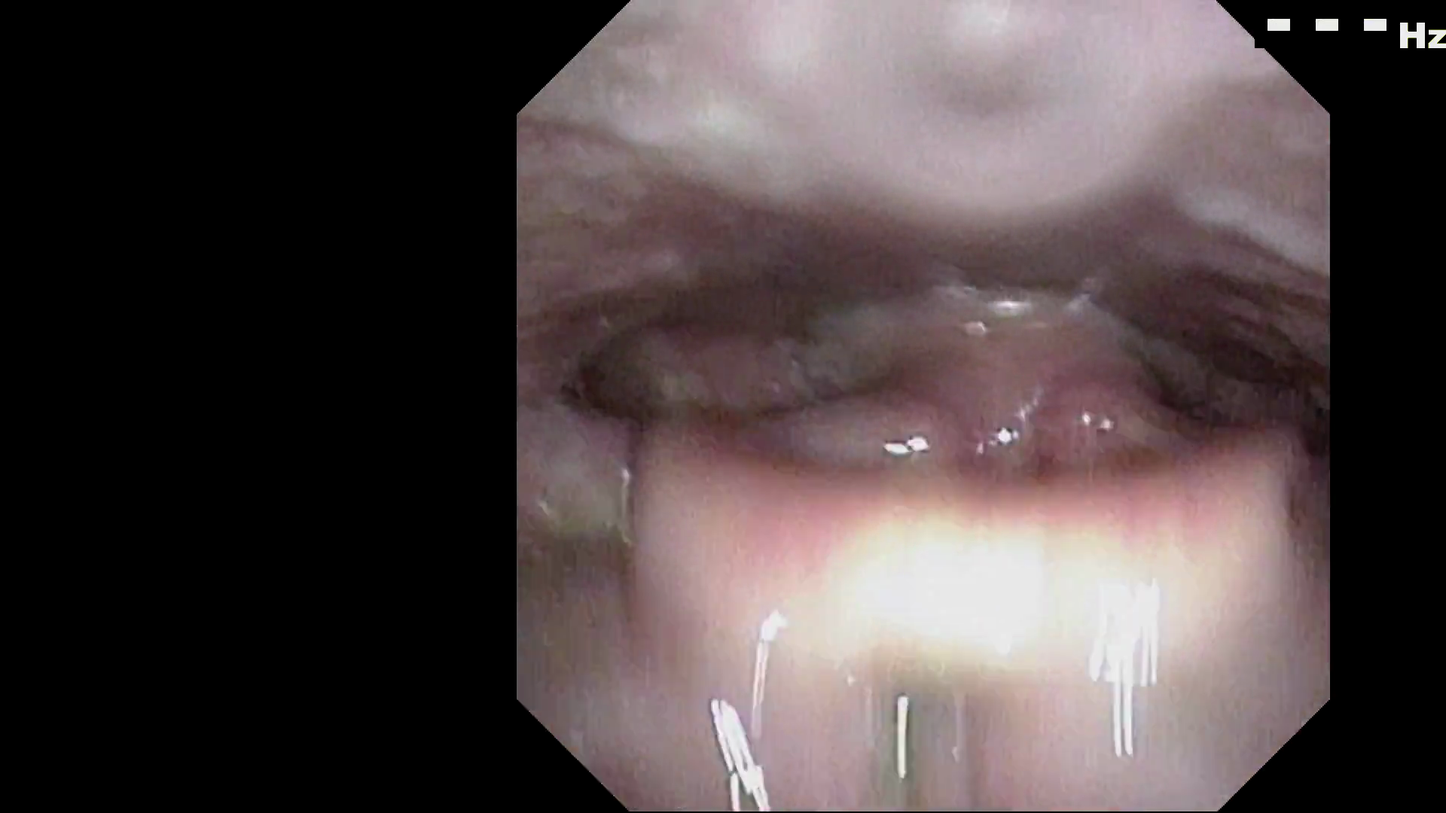epiglottis: (671, 512, 1265, 730), (699, 369, 1249, 536)
